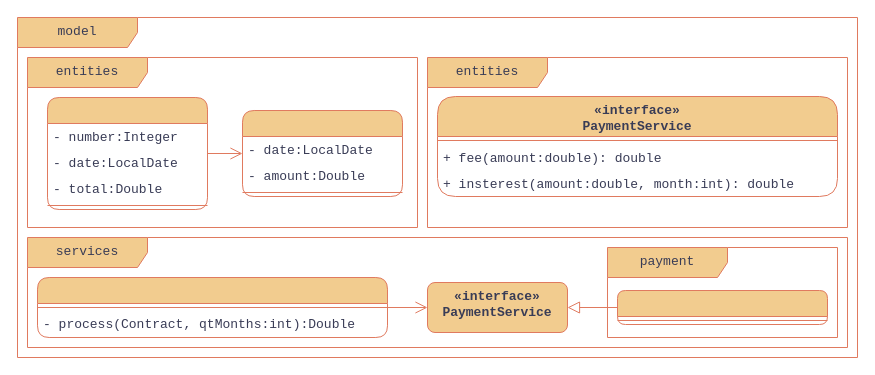
This 875x375 diagram has some shape labels left out. The shapes that lost their labels are listed below. From the top down, each one's box as (x1, y1, x2, y2) in pixels, then its label:
(46, 96, 208, 210): Contract
(242, 110, 402, 196): Installment
(36, 276, 388, 338): ContractProcessor
(616, 290, 828, 324): PaypalPayment
